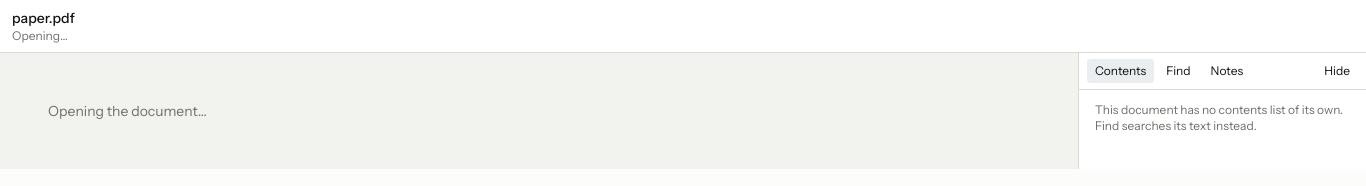
Test: PdfReader — what the notebook says about this document › invites the first citation rather than showing an empty tab
Click the button with aria-label "What your notes say about this document" at (1227, 71), box [1203,59,1251,83]
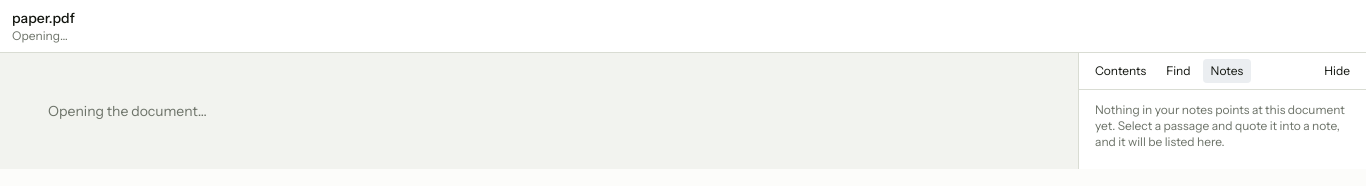
Now the text "Nothing in your notes points at this document yet" is shown, box [1095,102,1345,149]
